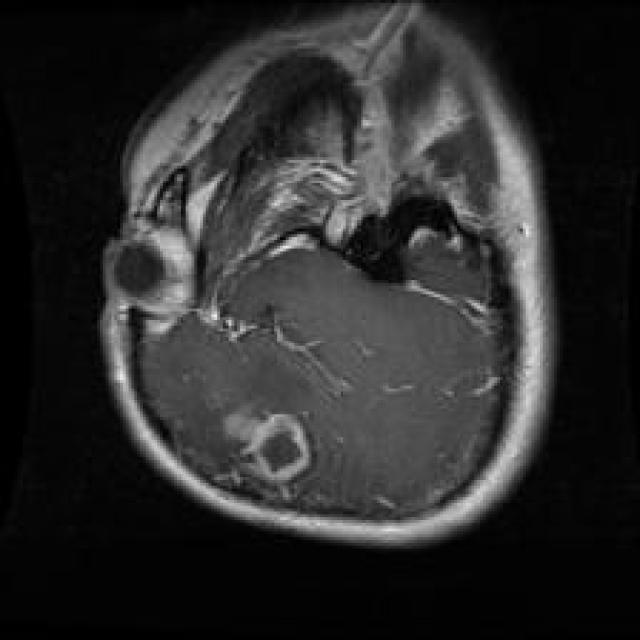glioma_tumor: (210, 391, 329, 505)
